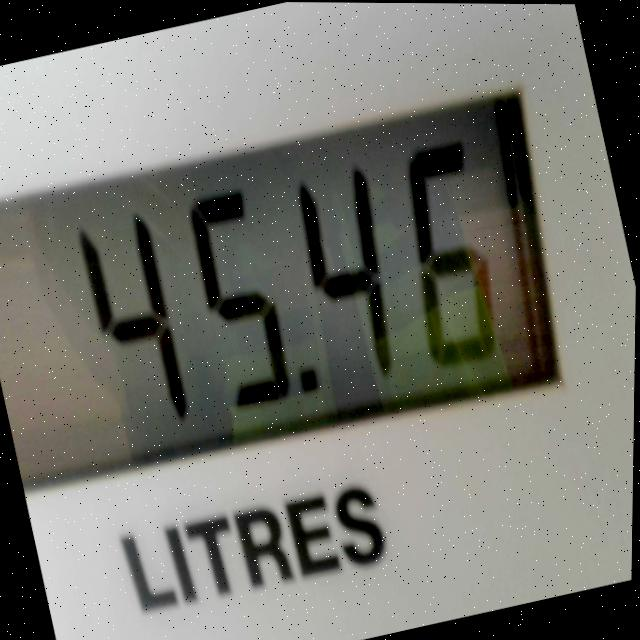.: (292, 358, 336, 427)
4: (60, 202, 213, 457), (279, 171, 418, 404)
5: (173, 174, 323, 431)
6: (380, 124, 536, 384)
